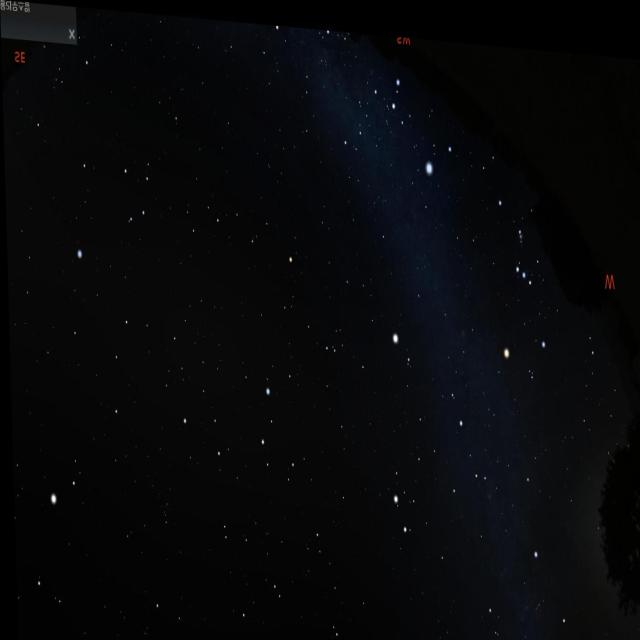bootes: (10, 464, 91, 640)
canis_major: (372, 44, 468, 177)
canis_minor: (387, 304, 422, 364)
gemini: (380, 387, 488, 542)
leo: (176, 345, 306, 494)
orion: (497, 180, 558, 354)
